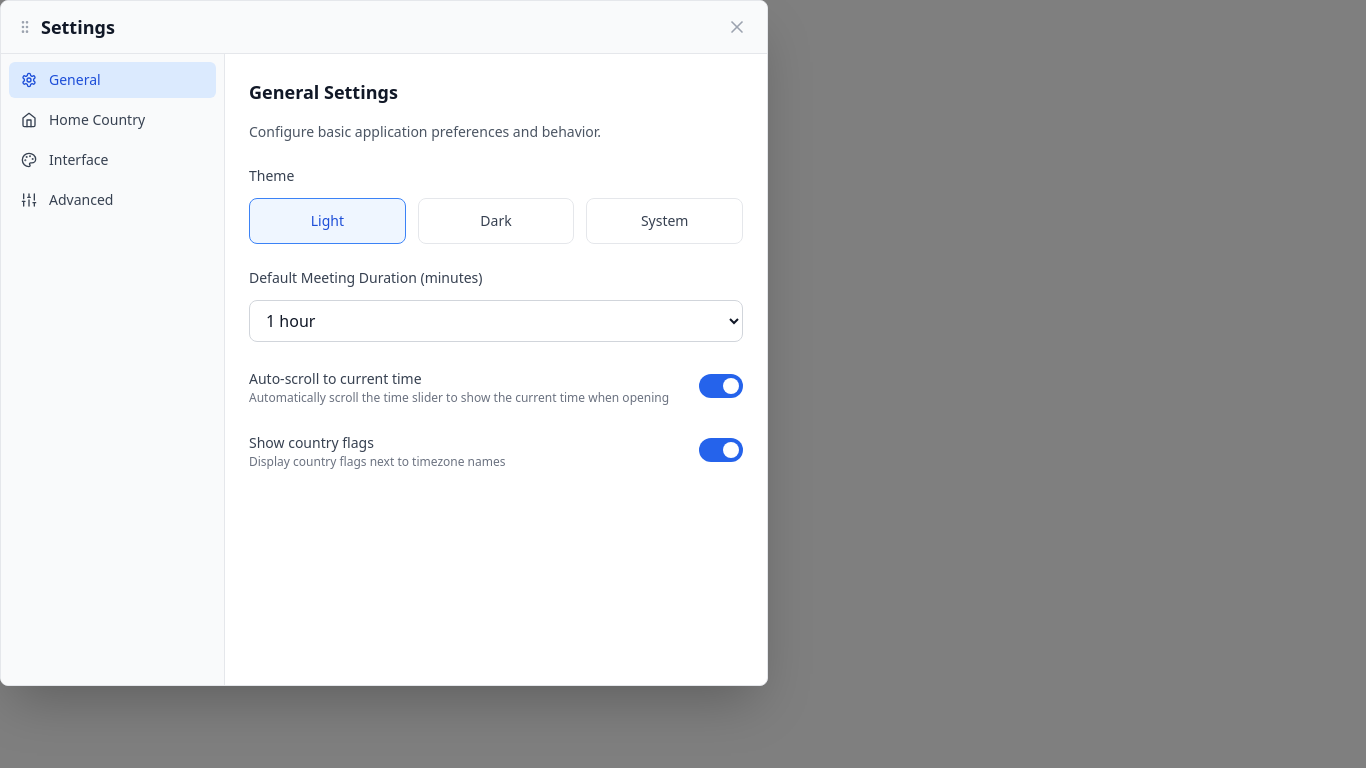
SettingsModal Form Controls and Validation › General Tab › allows changing theme selection
The image size is (1366, 768).
Click the button "Dark" at (496, 221), box [418, 198, 574, 244]
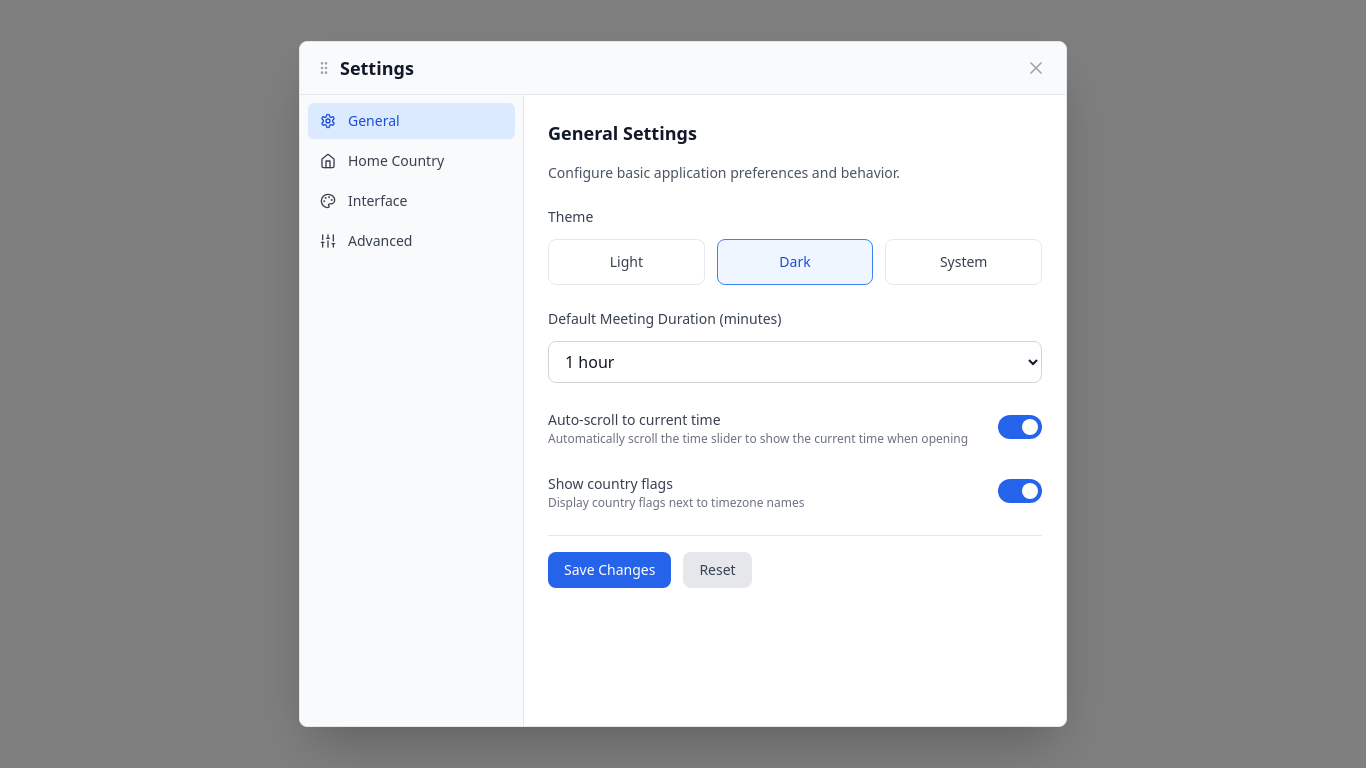
Result: the button "Save Changes" is shown at [548, 552, 671, 588]
Result: the button "Reset" is shown at [683, 552, 752, 588]
